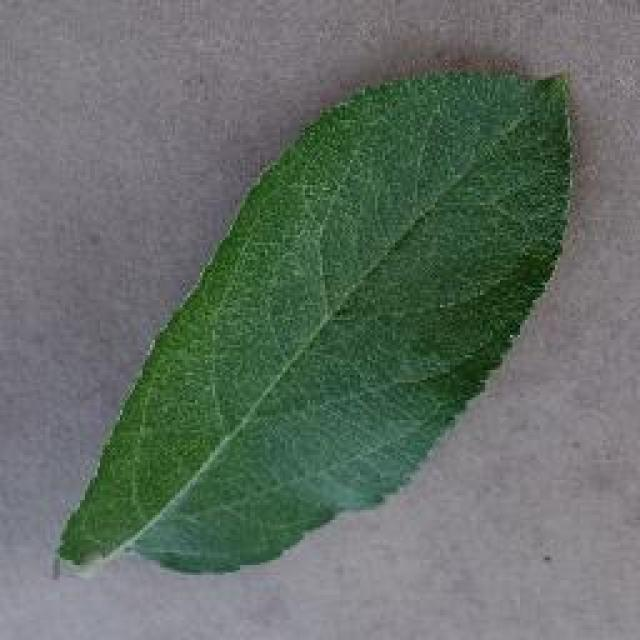apple healthy: (50, 60, 578, 580)
